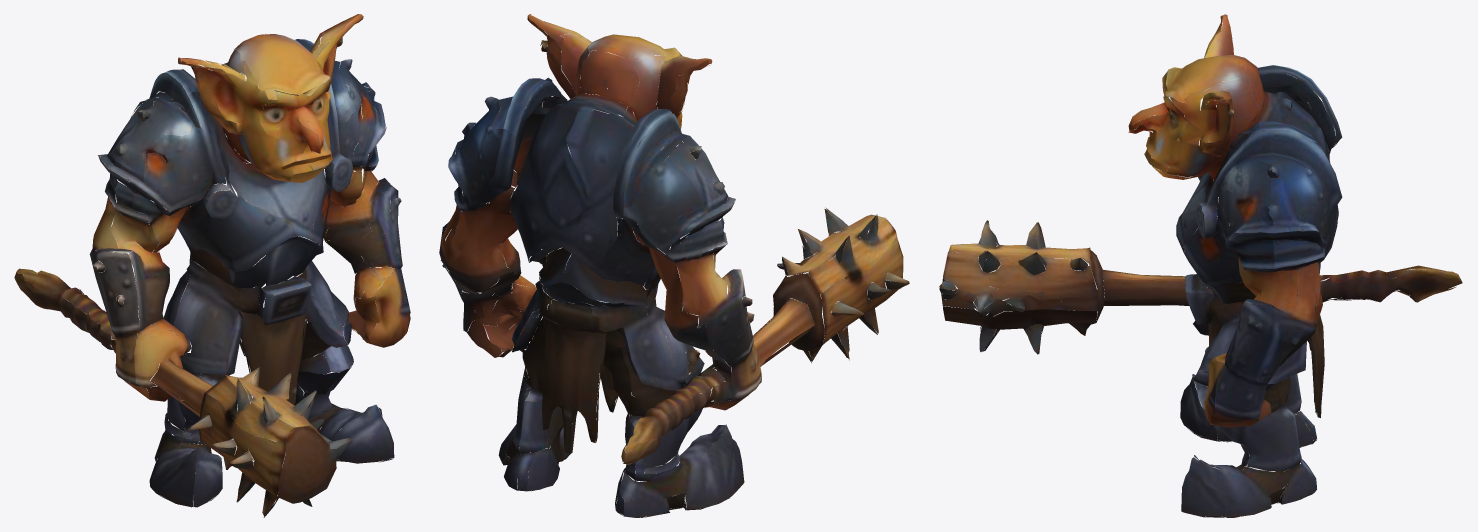
File: hobgoblin.glb
The picture shows the model from 3 angles, left to right: view 1: azimuth 30°, elevation 25°; view 2: azimuth 150°, elevation 25°; view 3: azimuth 270°, elevation 25°; orthographic projection. The views are drawn at different scales.
Visible parts, largest first — view 1: geometry_0; view 2: geometry_0; view 3: geometry_0.
Part boxes in pixels (<box>): geometry_0: <box>14,14,410,517</box>; geometry_0: <box>439,14,909,517</box>; geometry_0: <box>939,14,1462,517</box>.
Size of the model in its own units: 0.656 by 0.857 by 0.9903.
Materials: 1 (1 with a texture image).
